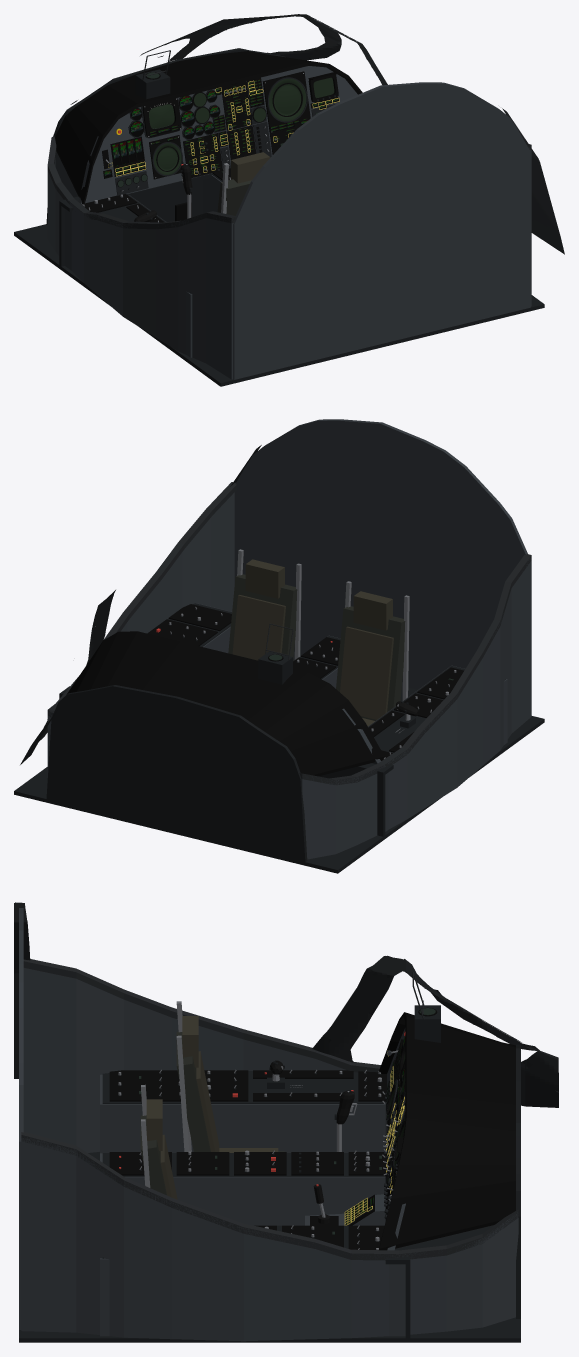
File: cockpit_a6_bn.glb
3 renders of one model, top to bottom at view 1: azimuth 30°, elevation 25°; view 2: azimuth 150°, elevation 25°; view 3: azimuth 270°, elevation 25°, orthographic. The views are drawn at different scales.
Parts seen in each view (by area): view 1: panel_grey.002, panel_grey, black, frame.002, panel_grey.003, dark, dark.002, frame, screen_dvri, dark.001, black.021, panel_grey.004 (+11 smaller); view 2: panel_grey.002, dark.001, panel_grey, black, panel_grey.001, cushion_96.001, dark, frame, cushion_96, frame.001, seat_95.001, seat_95 (+12 smaller); view 3: panel_grey.001, black, panel_grey, panel_grey.004, panel_grey.005, frame.002, frame.001, dark, frame, dark.004, black.005, panel_grey.006 (+23 smaller).
Boxes of the visible parts, box(x1,y1,x2,y2) form: panel_grey.002: box(233, 82, 530, 379); panel_grey: box(47, 158, 233, 379); black: box(55, 51, 362, 206); frame.002: box(66, 14, 564, 254); panel_grey.003: box(78, 66, 357, 204); dark: box(14, 224, 544, 386); dark.002: box(59, 179, 202, 266); frame: box(47, 136, 236, 229); screen_dvri: box(269, 78, 306, 121); dark.001: box(46, 48, 285, 224); black.021: box(183, 133, 222, 177); panel_grey.004: box(65, 195, 192, 357); panel_grey.002: box(234, 419, 527, 689); dark.001: box(46, 685, 307, 863); panel_grey: box(301, 556, 531, 859); black: box(66, 631, 384, 776); panel_grey.001: box(47, 492, 234, 777); cushion_96.001: box(340, 626, 393, 719); dark: box(14, 659, 544, 873); frame: box(299, 554, 531, 785); cushion_96: box(232, 595, 285, 660); frame.001: box(47, 482, 236, 717); seat_95.001: box(336, 606, 405, 720); seat_95: box(228, 574, 297, 660); panel_grey.001: box(21, 1136, 518, 1341); black: box(379, 1012, 515, 1250); panel_grey: box(23, 968, 346, 1152); panel_grey.004: box(100, 1074, 385, 1153); panel_grey.005: box(100, 1153, 385, 1225); frame.002: box(14, 902, 558, 1107); frame.001: box(21, 1132, 518, 1260); dark: box(19, 1152, 520, 1342); frame: box(23, 959, 380, 1072); dark.004: box(102, 1071, 385, 1103); black.005: box(109, 1070, 180, 1101); panel_grey.006: box(100, 1258, 405, 1336).
Bounding box in the file's own units: 2.12 × 1.47 × 2.3.
Materials: 22 (1 with a texture image).
